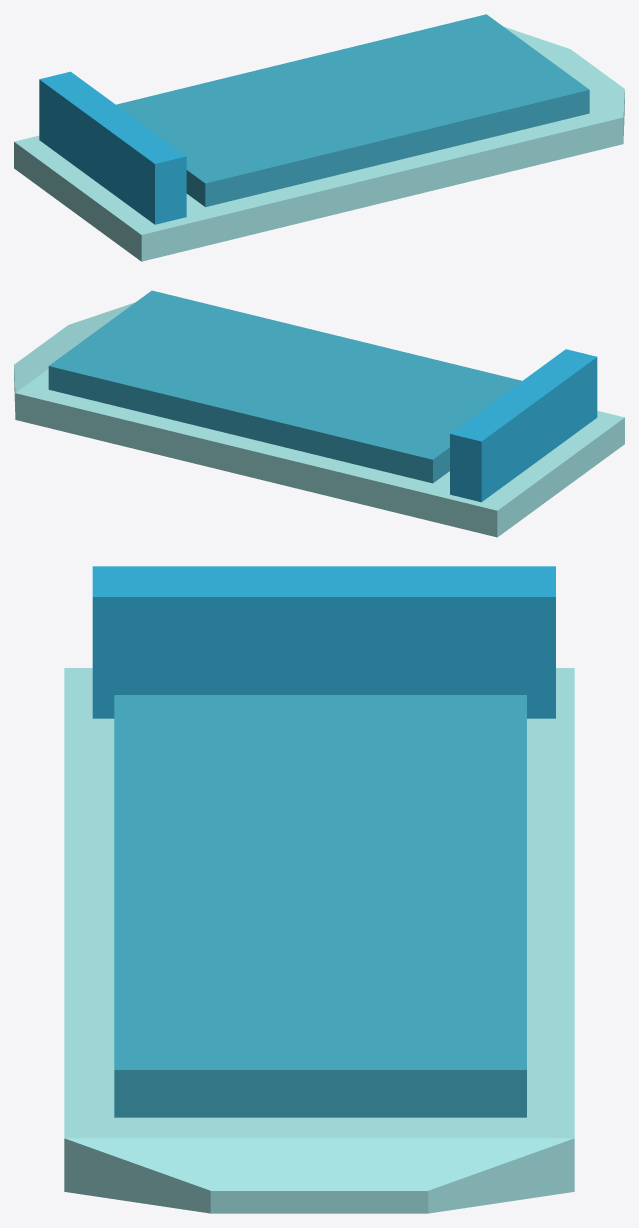
Rendered from Vessel-route.glb.
The picture shows the model from 3 angles, top to bottom: view 1: azimuth 30°, elevation 25°; view 2: azimuth 150°, elevation 25°; view 3: azimuth 270°, elevation 25°; orthographic projection. The views are drawn at different scales.
Parts seen in each view (by area): view 1: Cube.002, Cube, Cube.001; view 2: Cube.002, Cube, Cube.001; view 3: Cube.002, Cube, Cube.001.
Boxes of the visible parts, left/top/right/bottom form: Cube.002: left=116, top=14, right=589, bottom=207; Cube: left=14, top=27, right=624, bottom=261; Cube.001: left=39, top=71, right=186, bottom=224; Cube.002: left=48, top=290, right=521, bottom=483; Cube: left=14, top=302, right=624, bottom=537; Cube.001: left=450, top=349, right=597, bottom=502; Cube.002: left=114, top=695, right=526, bottom=1117; Cube: left=64, top=668, right=574, bottom=1213; Cube.001: left=92, top=566, right=555, bottom=718.
Bounding box in the file's own units: 13.75 × 2.21 × 5.84.
